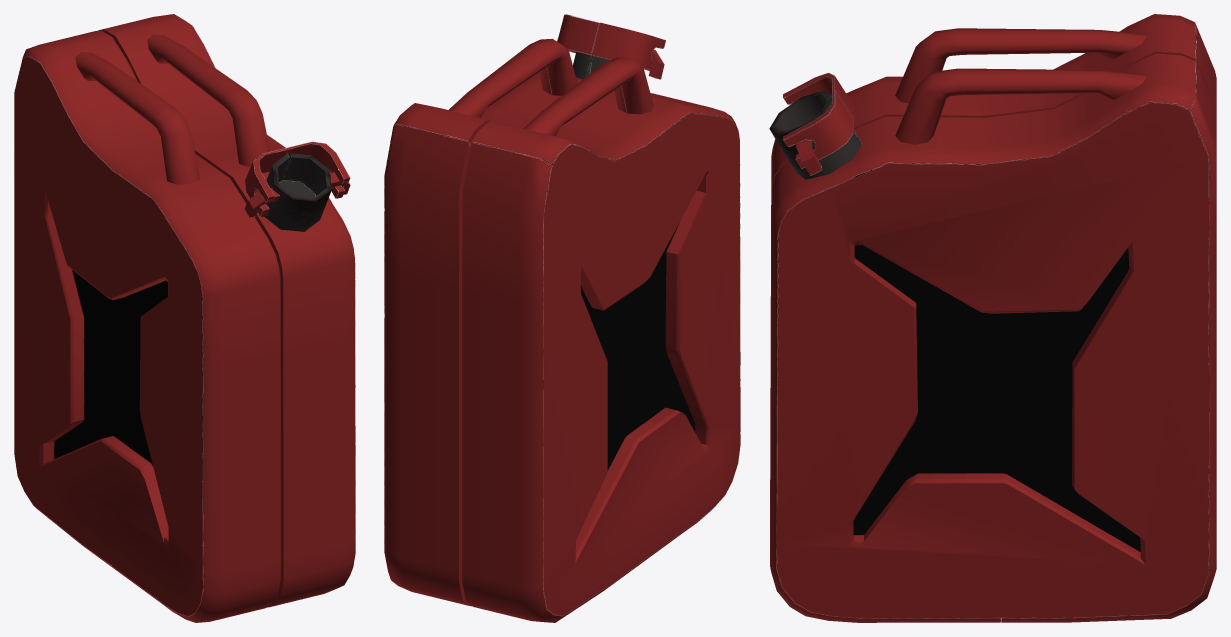
The model's file is gascan.fbx.
3 renders of one model, left to right at view 1: azimuth 30°, elevation 25°; view 2: azimuth 150°, elevation 25°; view 3: azimuth 270°, elevation 25°, orthographic. The views are drawn at different scales.
Visible parts, largest first — view 1: GasCanBody; view 2: GasCanBody; view 3: GasCanBody.
Part boxes in pixels (bbox=[...]): GasCanBody: bbox=[14, 14, 355, 622]; GasCanBody: bbox=[384, 14, 740, 622]; GasCanBody: bbox=[769, 14, 1216, 622].
Size of the model in its own units: 87.17 by 240 by 182.
